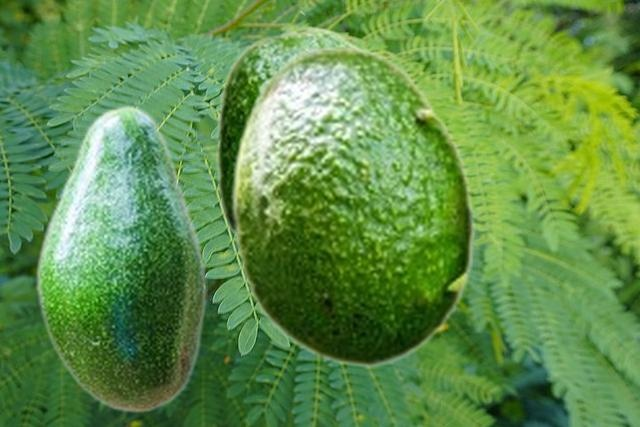avocado: (229, 45, 475, 367), (34, 104, 206, 413), (214, 25, 364, 238)
